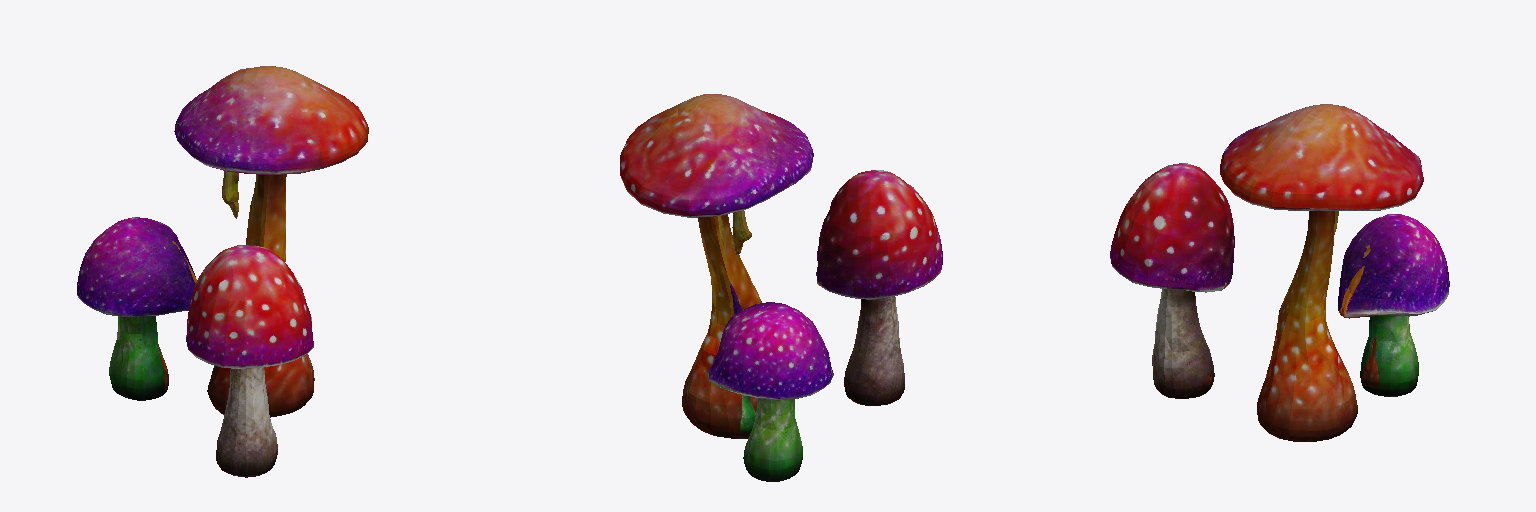
The picture shows the model from 3 angles: view 1: azimuth 30°, elevation 25°; view 2: azimuth 150°, elevation 25°; view 3: azimuth 270°, elevation 25°; orthographic projection.
Parts seen in each view (by area): view 1: mesh; view 2: mesh; view 3: mesh.
Boxes of the visible parts, x1,y1,x2,y2 form: mesh: [77, 66, 368, 477]; mesh: [620, 94, 942, 481]; mesh: [1110, 104, 1449, 441].
Size of the model in its own units: 0.7403 by 0.9997 by 0.9508.
Materials: 1 (1 with a texture image).